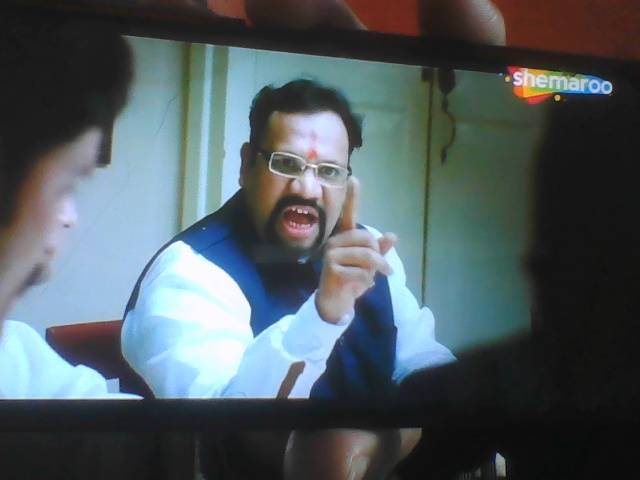fake: (226, 81, 359, 269)
